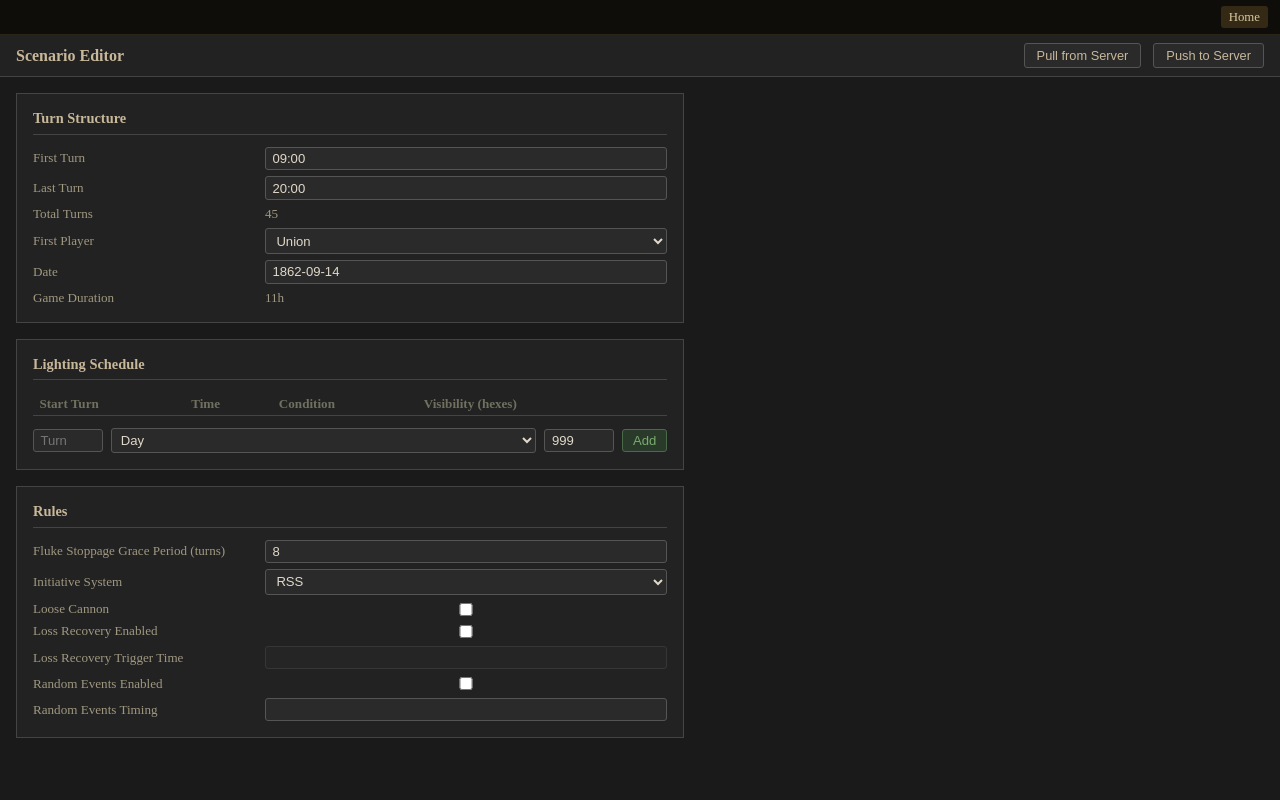
Test case: ScenarioEditorView › pull when dirty shows confirm dialog
The image size is (1280, 800).
Replace the text in the 1st field with "08:00" at point(466, 158), box [265,146,667,170]
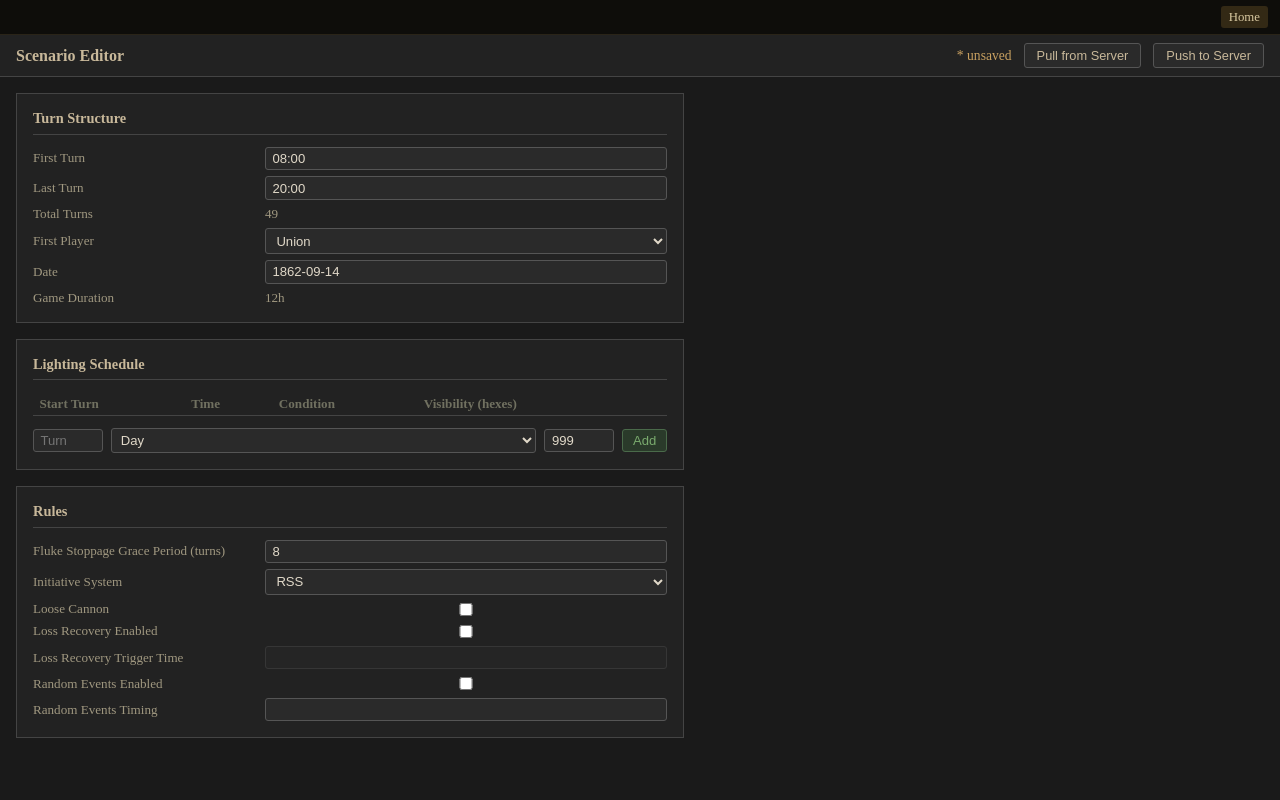
Click the button "Pull from Server" at point(1082, 56), box [1024,43,1141,68]
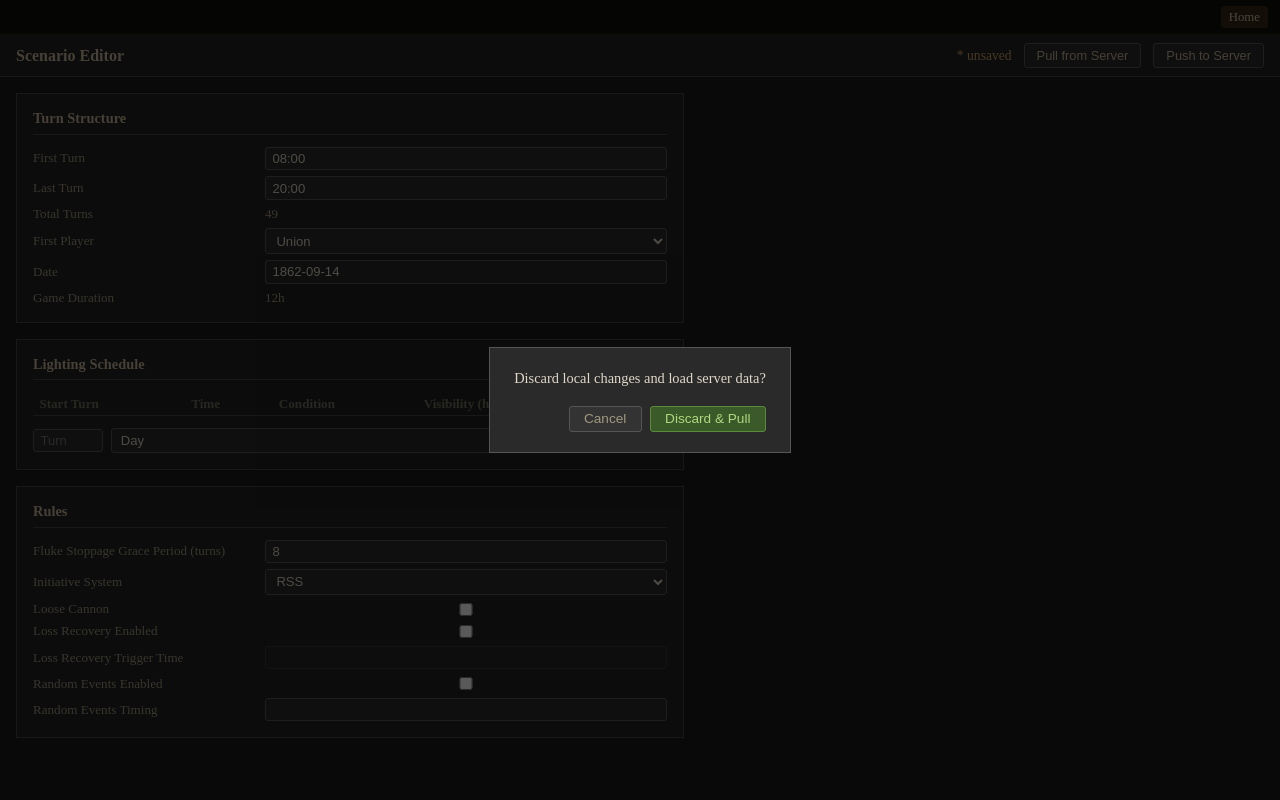
Result: the text "Discard local changes" is shown at [514,370,766,386]
